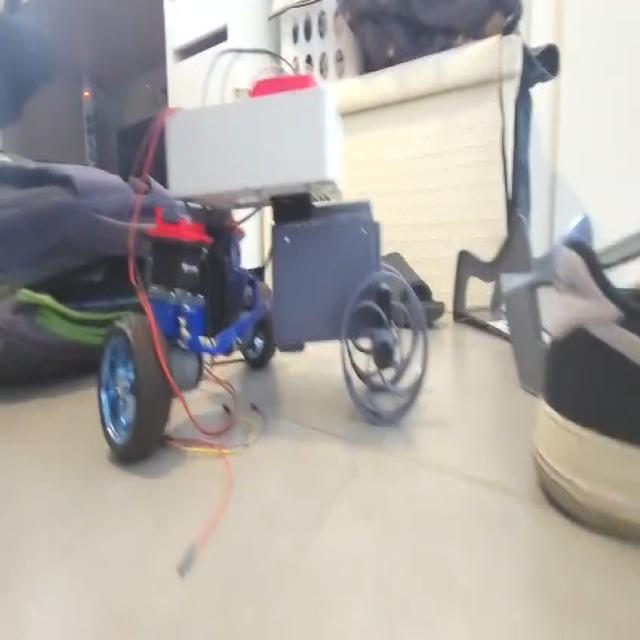Robot: (98, 72, 428, 464)
